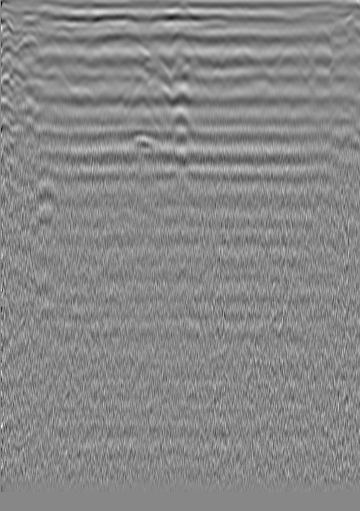가스: (127, 129, 164, 159)
상수: (307, 28, 329, 58)
오수: (15, 30, 42, 60)
우수: (170, 26, 190, 46)
